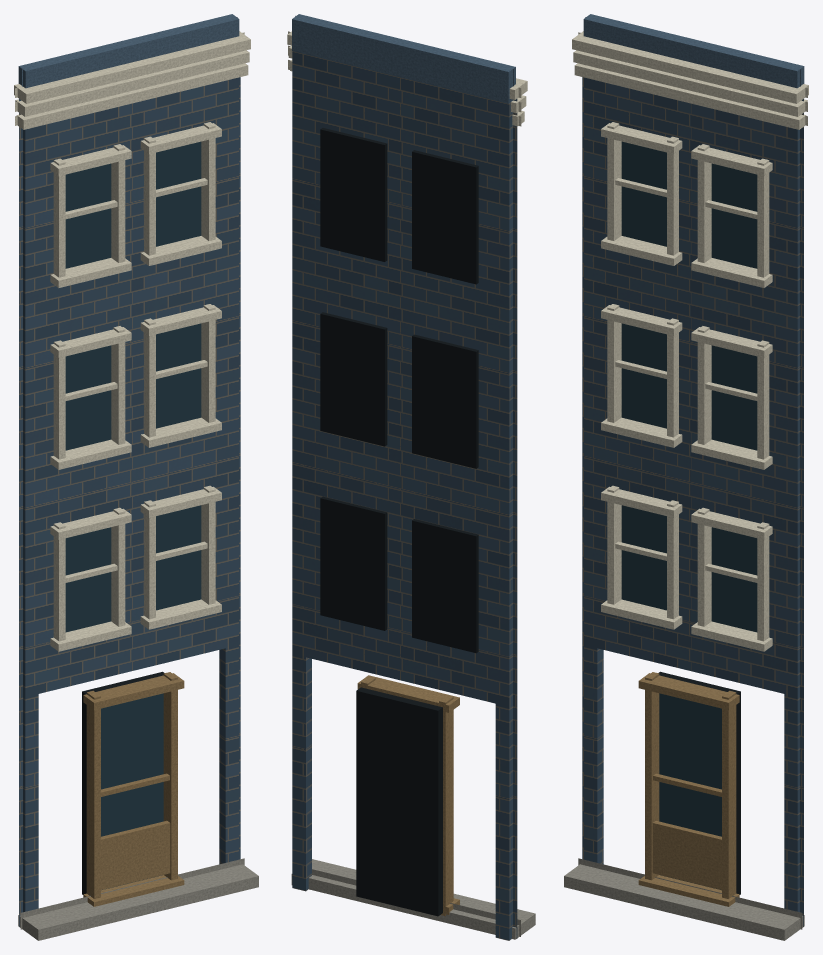
The model's file is OFFC13_lod2.glb.
3 renders of one model, left to right at view 1: azimuth 30°, elevation 25°; view 2: azimuth 150°, elevation 25°; view 3: azimuth 330°, elevation 25°, orthographic.
Parts seen in each view (by area): view 1: OFFC13_FRONT_LOD2; view 2: OFFC13_FRONT_LOD2; view 3: OFFC13_FRONT_LOD2.
Boxes of the visible parts, x1=… form: OFFC13_FRONT_LOD2: x1=14, y1=14, x2=258, y2=940; OFFC13_FRONT_LOD2: x1=287, y1=14, x2=535, y2=940; OFFC13_FRONT_LOD2: x1=564, y1=14, x2=808, y2=940.
Bounding box in the file's own units: 3.44 × 12.26 × 0.68.
8 materials, 6 textured.
